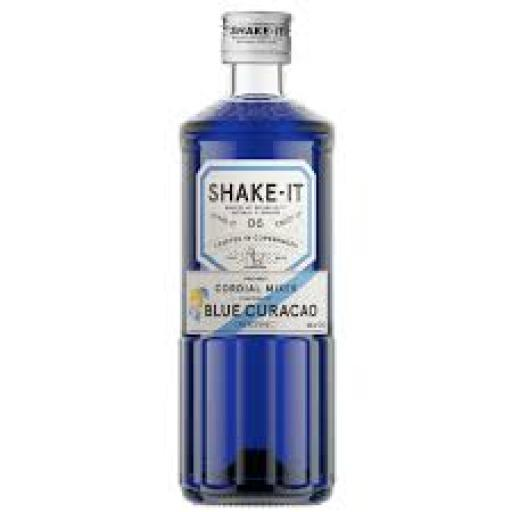blue-bottle: (182, 14, 332, 501)
